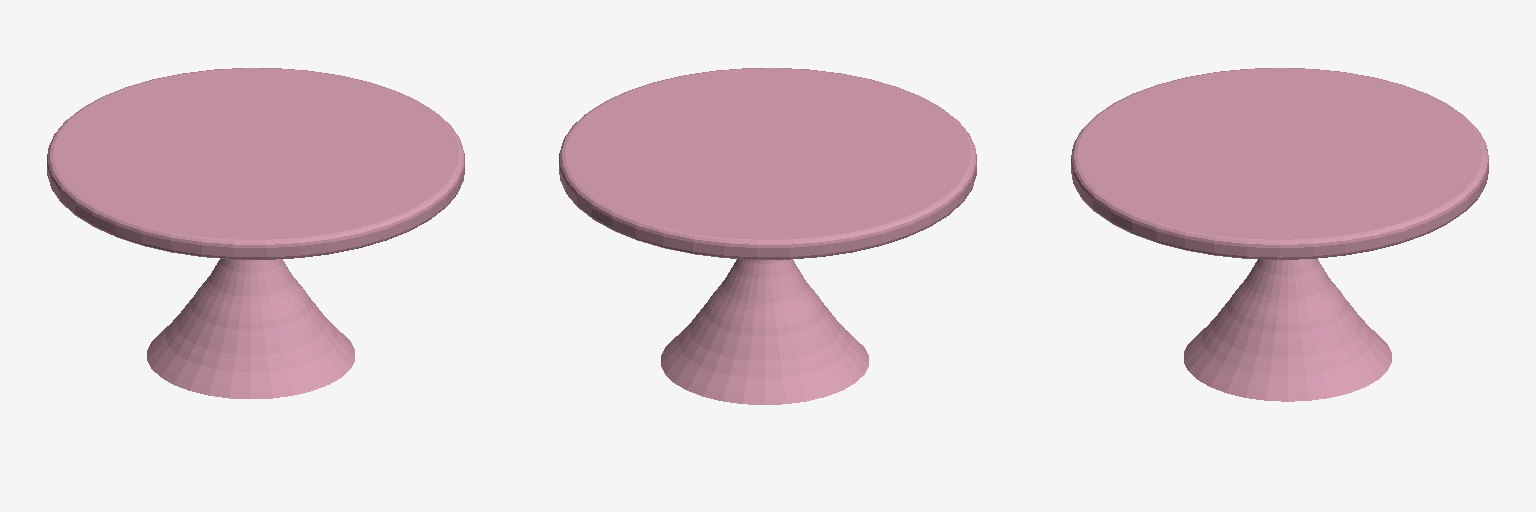
The picture shows the model from 3 angles: view 1: azimuth 30°, elevation 25°; view 2: azimuth 150°, elevation 25°; view 3: azimuth 270°, elevation 25°; orthographic projection.
Visible parts, largest first — view 1: pCylinder7; view 2: pCylinder7; view 3: pCylinder7.
Boxes of the visible parts, <box> form: pCylinder7: <box>47,68,464,398</box>; pCylinder7: <box>559,68,976,404</box>; pCylinder7: <box>1071,68,1488,401</box>.
Size of the model in its own units: 2 by 1.07 by 2.
1 materials, 1 textured.